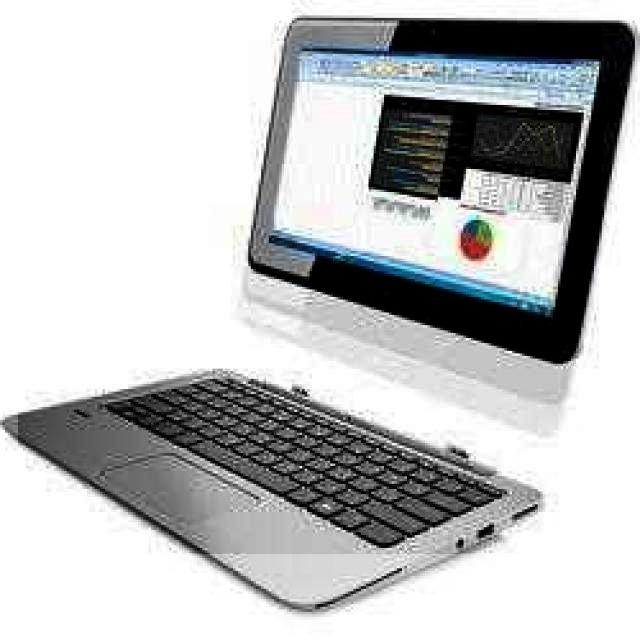-keyboard-: (18, 26, 602, 554)
